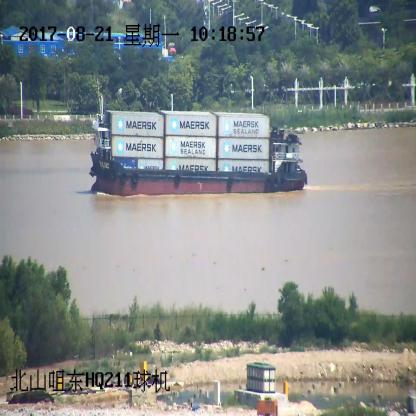Container Ship: (90, 80, 308, 197)
